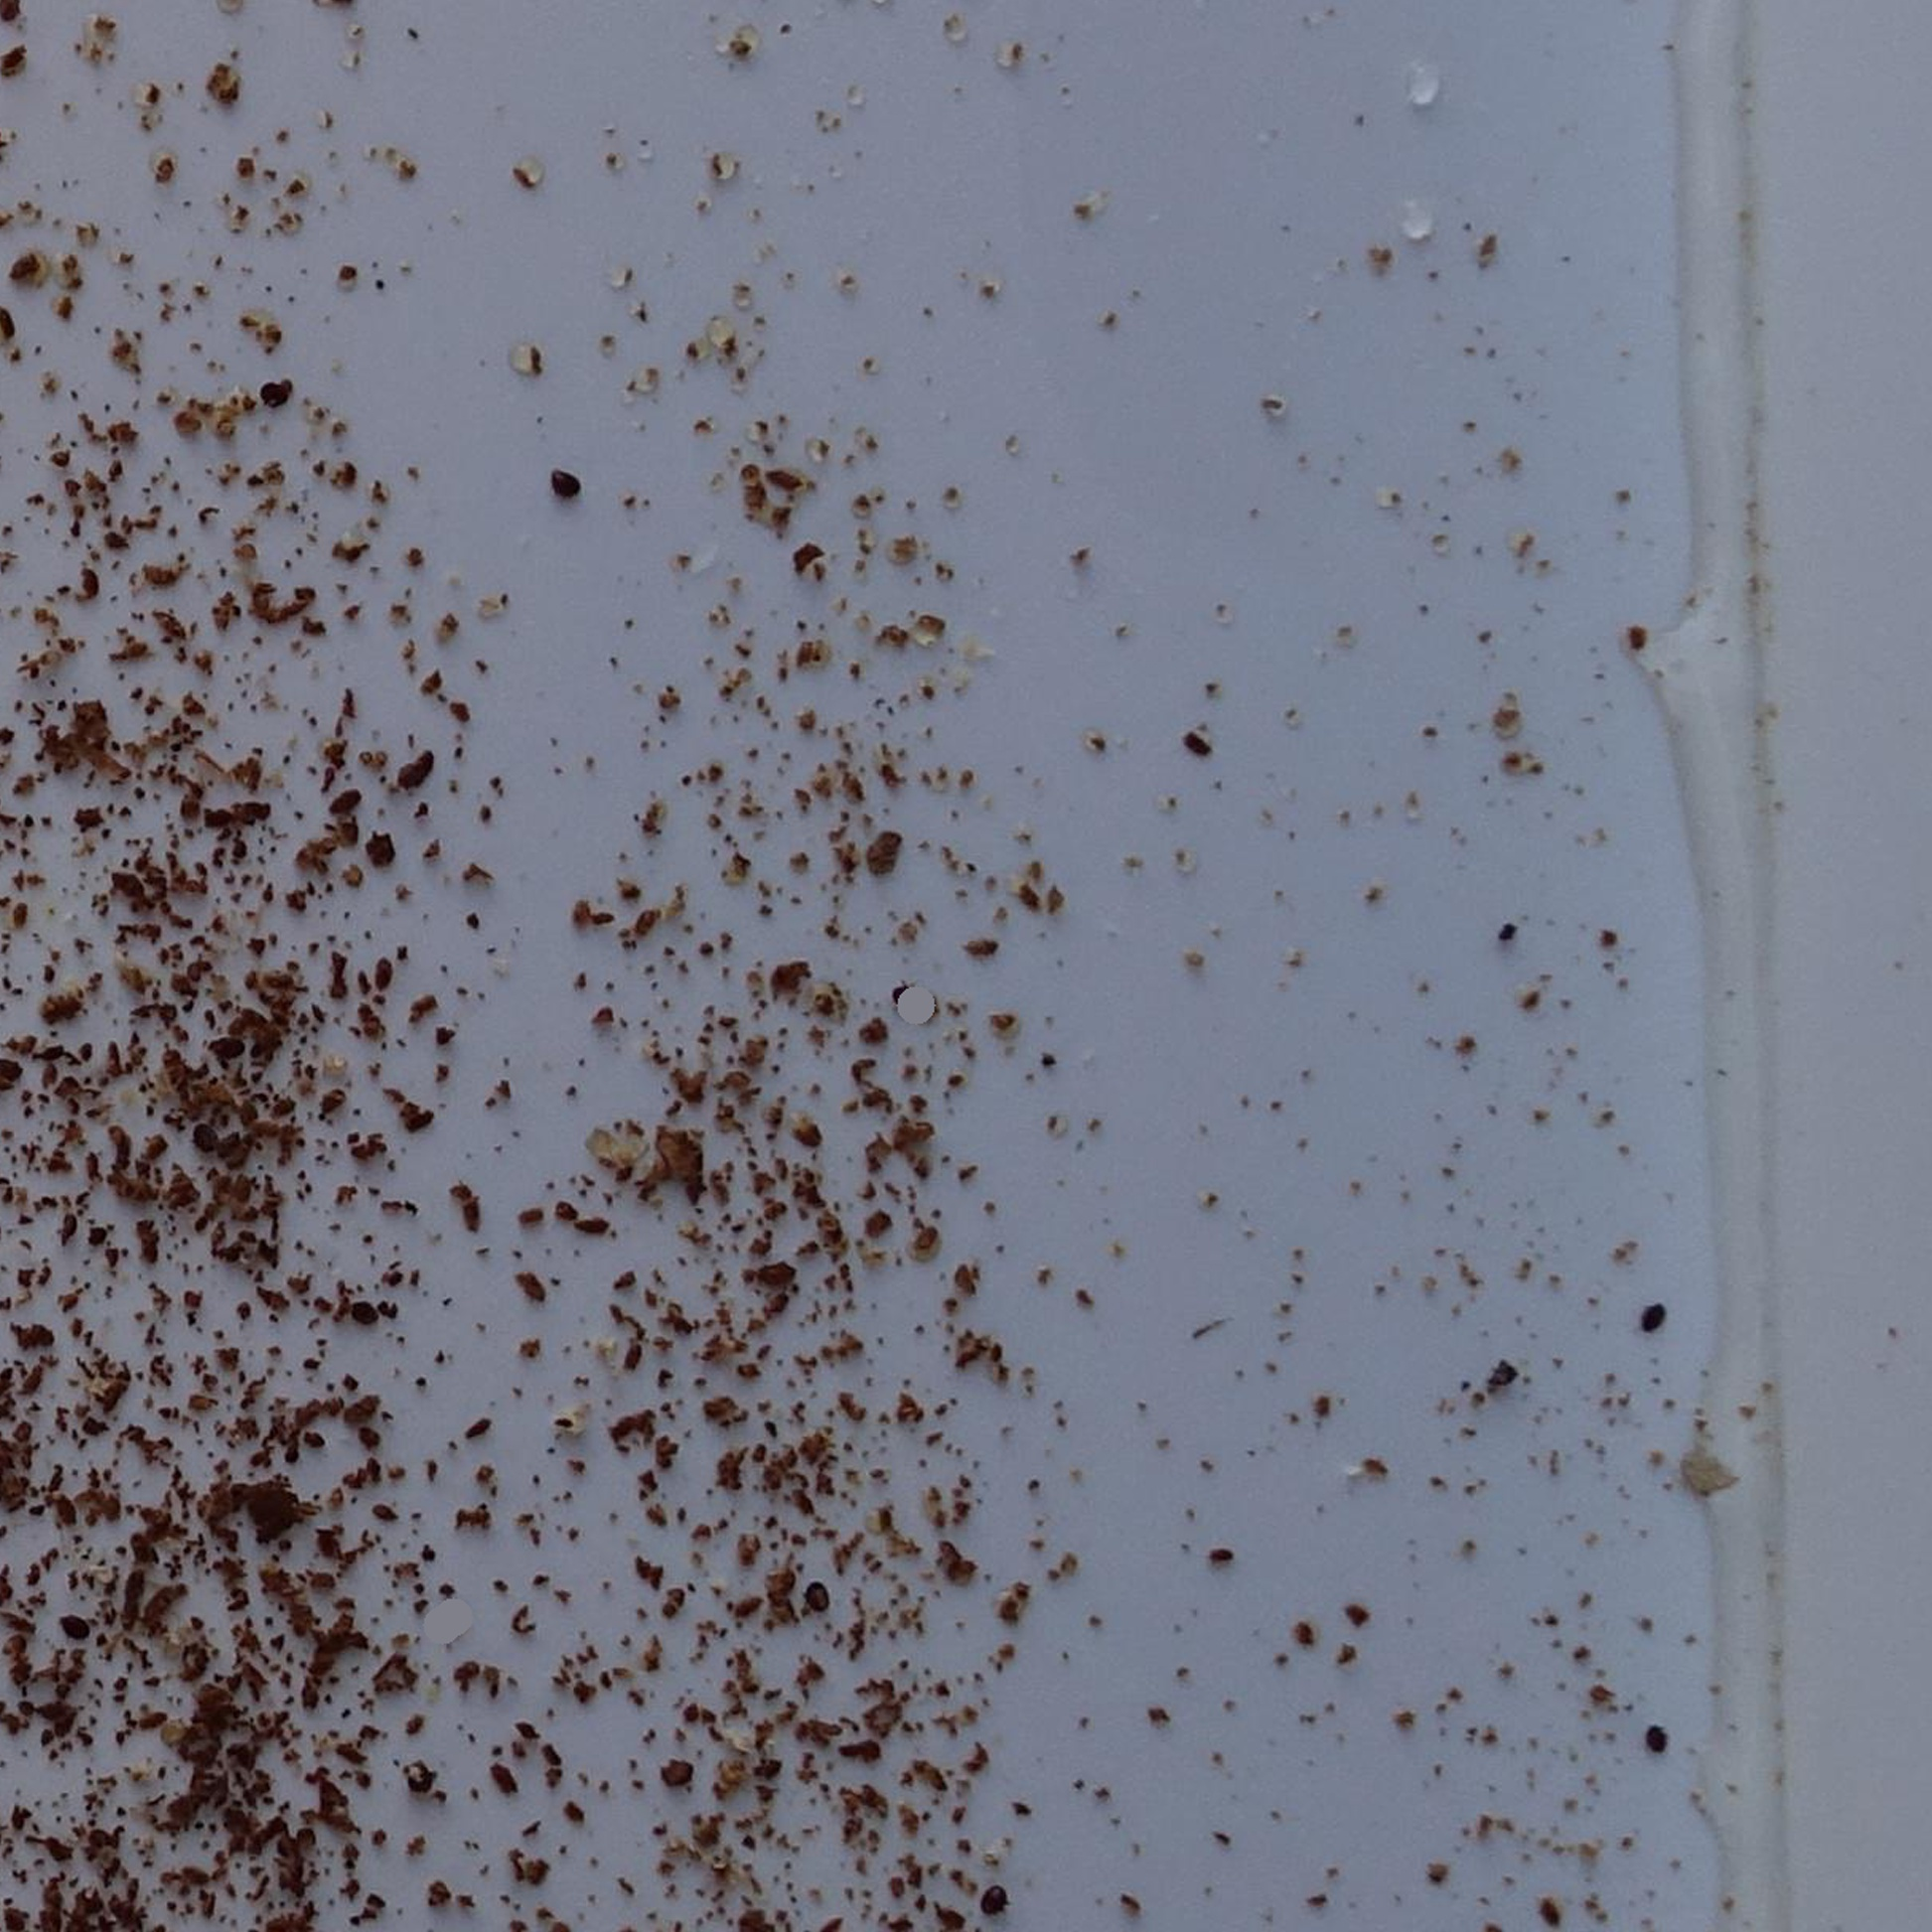Varroa: (216, 1033, 244, 1062), (186, 1125, 216, 1150), (350, 1297, 377, 1323), (980, 1888, 1005, 1914), (260, 382, 285, 407), (554, 472, 579, 495), (64, 1615, 87, 1640), (807, 1585, 830, 1608), (893, 982, 916, 1005), (1645, 1727, 1668, 1750), (1644, 1309, 1656, 1323)
